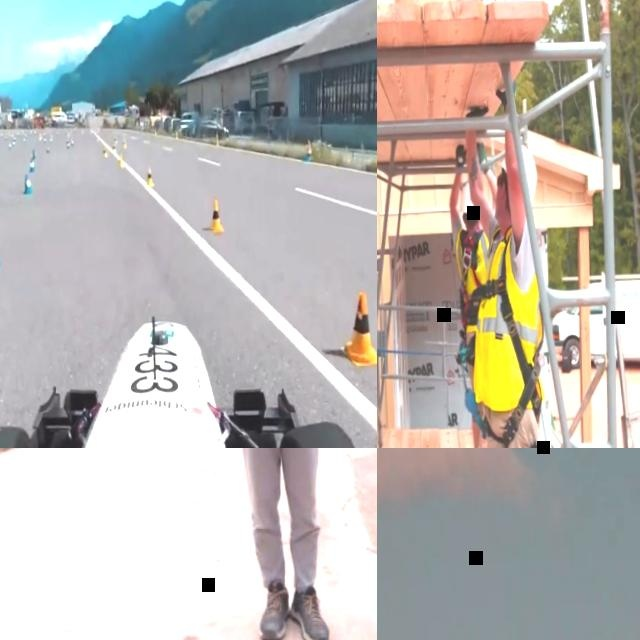Hardhat: (499, 142, 538, 208), (459, 180, 478, 212)
NO-Mask: (494, 178, 508, 218)
Person: (126, 448, 377, 640), (460, 80, 554, 448), (444, 137, 509, 448)
Safety Cone: (341, 285, 377, 368), (207, 192, 225, 232), (22, 170, 33, 195), (144, 163, 155, 188), (304, 138, 313, 159), (117, 150, 124, 169), (28, 157, 35, 171), (214, 130, 220, 146), (102, 143, 107, 157), (122, 135, 127, 148), (175, 128, 179, 139), (70, 135, 74, 146), (7, 142, 11, 152), (112, 142, 115, 154), (67, 138, 70, 149), (46, 143, 49, 153), (153, 127, 156, 135)
Safety Vest: (468, 222, 544, 411), (454, 221, 493, 330)
vehicle: (0, 302, 377, 448), (550, 267, 640, 373)
